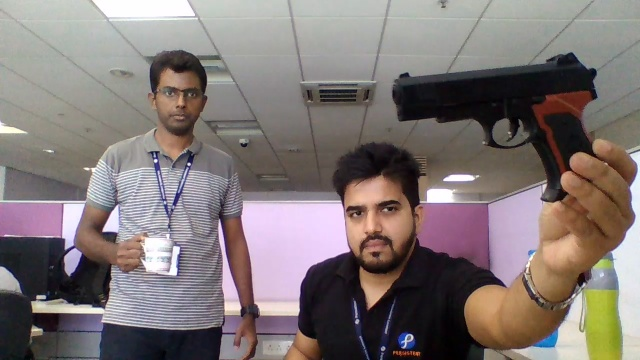gun: (392, 52, 599, 137)
